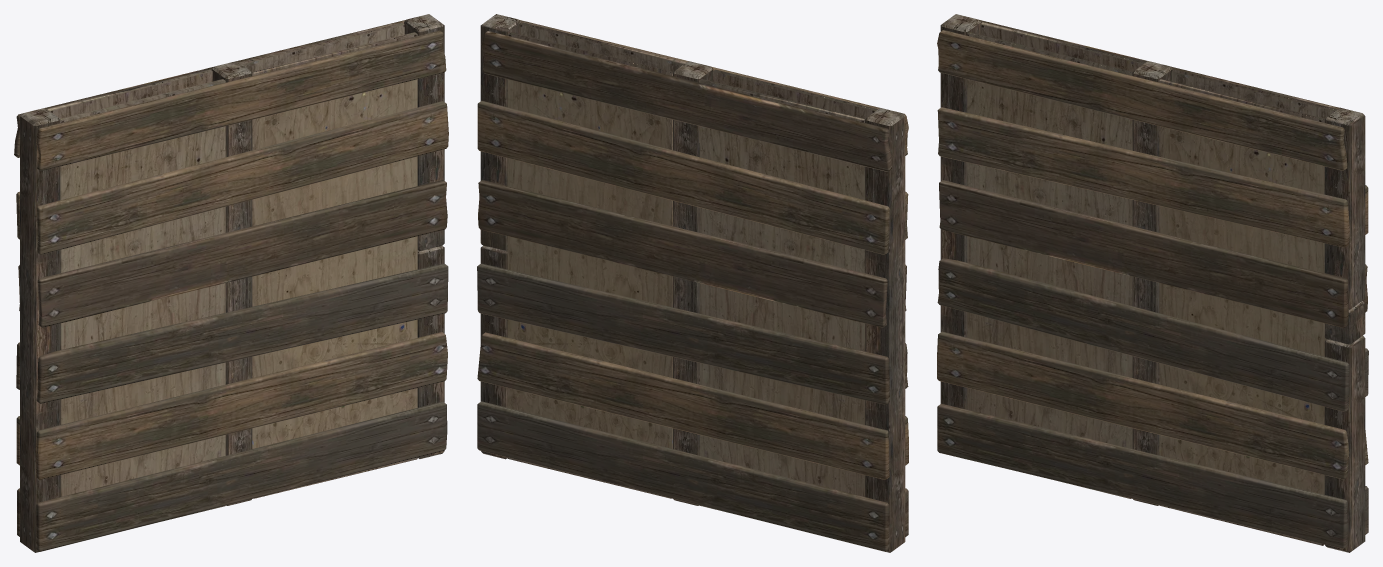
Rendered from gun_display_rack.glb.
The picture shows the model from 3 angles, left to right: view 1: azimuth 30°, elevation 25°; view 2: azimuth 150°, elevation 25°; view 3: azimuth 330°, elevation 25°; orthographic projection.
Parts seen in each view (by area): view 1: gun_display_rack; view 2: gun_display_rack; view 3: gun_display_rack.
Boxes of the visible parts, bbox=[...] form: gun_display_rack: bbox=[14, 14, 448, 552]; gun_display_rack: bbox=[477, 14, 908, 552]; gun_display_rack: bbox=[937, 14, 1368, 552].
Size of the model in its own units: 1.51 by 1.5 by 0.1477.
2 materials, 2 textured.
